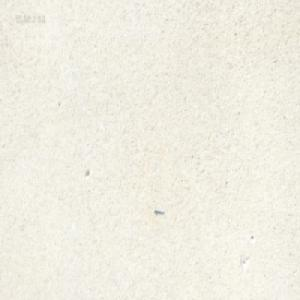Nail: (154, 208, 164, 216)
